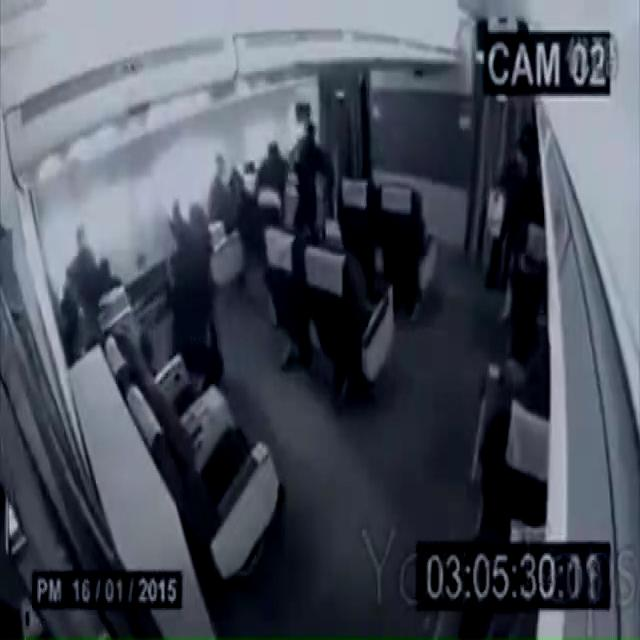fight: (256, 123, 331, 250)
